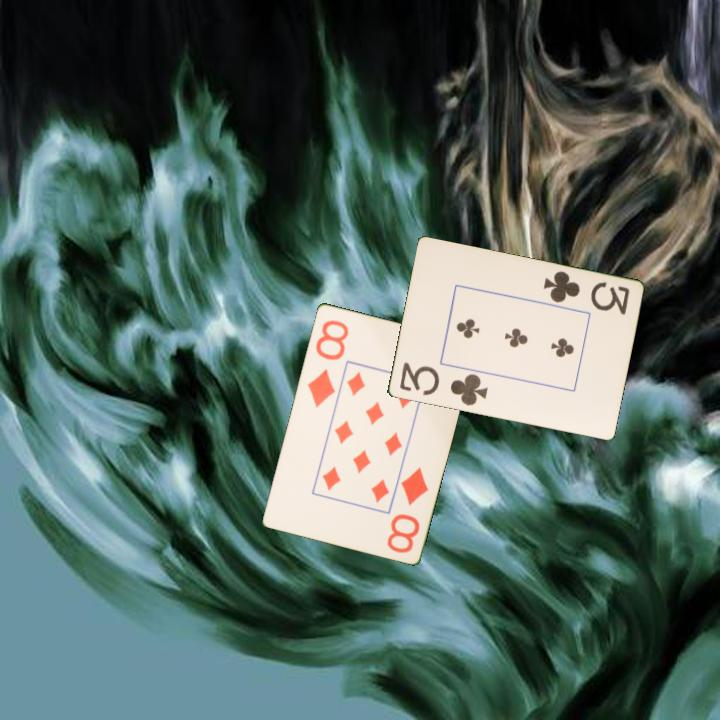3c: (396, 359, 491, 409), (539, 268, 632, 318)
8d: (383, 463, 431, 556), (304, 316, 351, 410)
